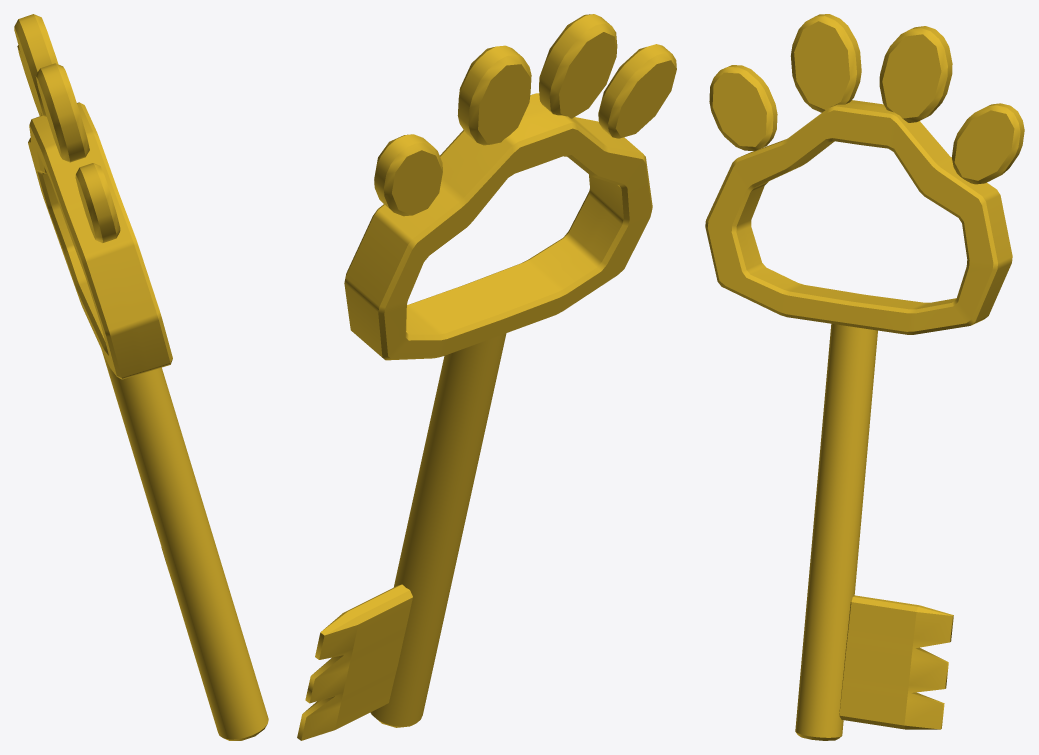
Rendered from Goal_Key.fbx.
3 renders of one model, left to right at view 1: azimuth 30°, elevation 25°; view 2: azimuth 150°, elevation 25°; view 3: azimuth 270°, elevation 25°, orthographic. The views are drawn at different scales.
Parts seen in each view (by area): view 1: polySurface30; view 2: polySurface30; view 3: polySurface30.
Boxes of the visible parts, x1,y1,x2,y2 form: polySurface30: (14, 14, 268, 740); polySurface30: (297, 14, 676, 740); polySurface30: (705, 14, 1024, 740).
Bounding box in the file's own units: 0.6197 × 1.78 × 0.7969.
